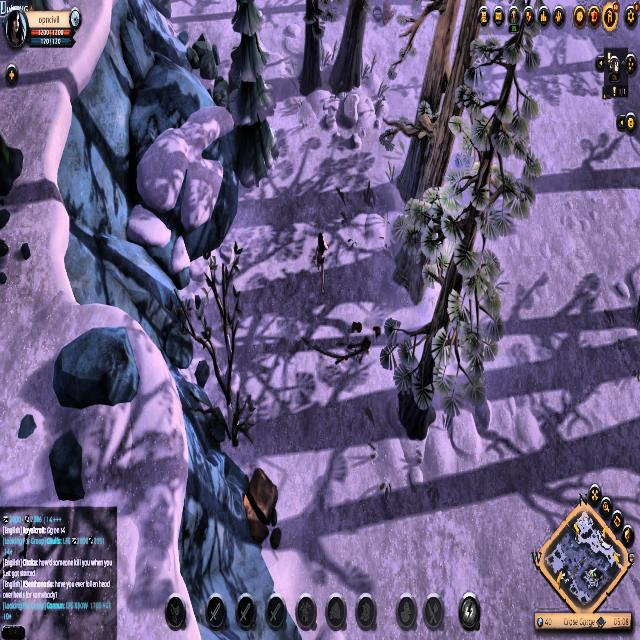limestone: (239, 468, 285, 554)
sandstone: (184, 36, 223, 82)
